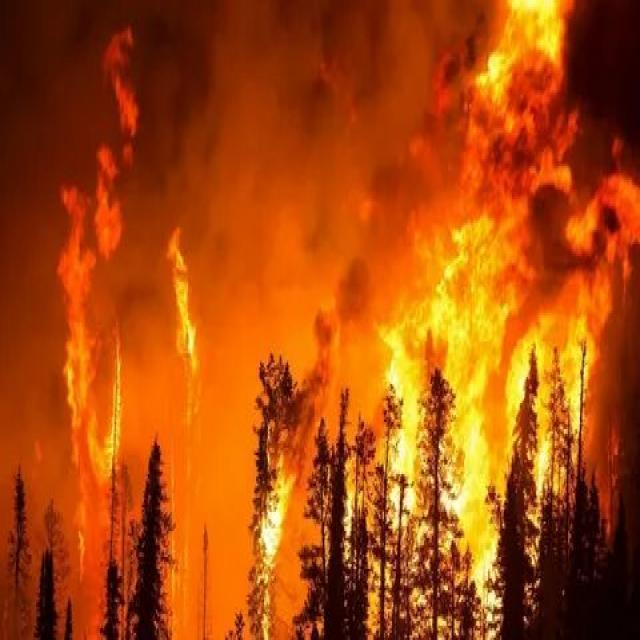Fire: (331, 201, 640, 640), (418, 0, 640, 194), (202, 356, 314, 640)
